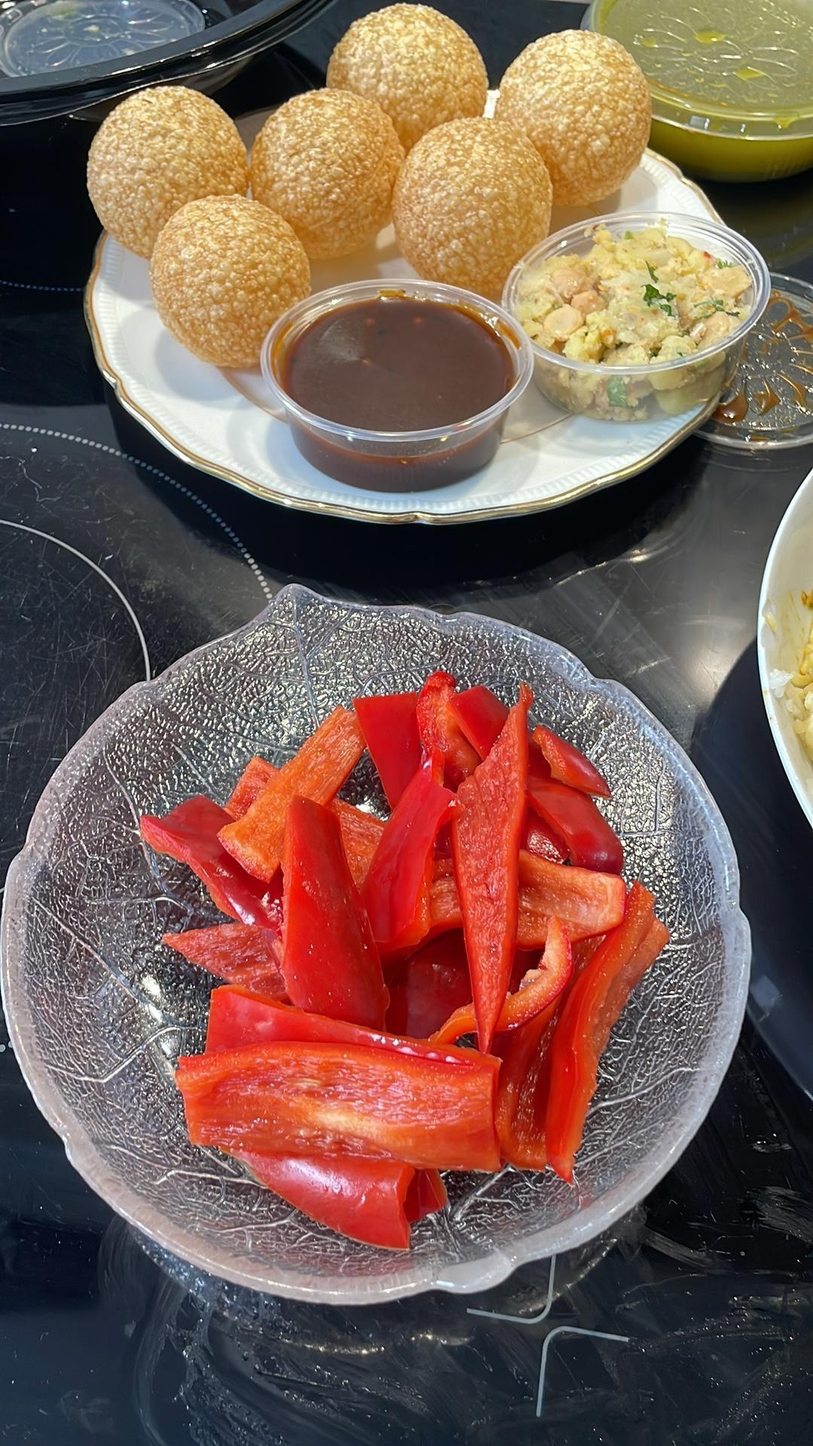bell pepper: (169, 1037, 507, 1176), (542, 876, 681, 1181), (549, 876, 669, 1180), (452, 687, 633, 875), (215, 697, 393, 882), (131, 787, 321, 949), (220, 679, 373, 878), (453, 681, 533, 1061), (282, 795, 395, 1043), (207, 1125, 418, 1253), (356, 756, 458, 951), (365, 758, 456, 959), (166, 926, 321, 1023), (534, 728, 623, 808)
